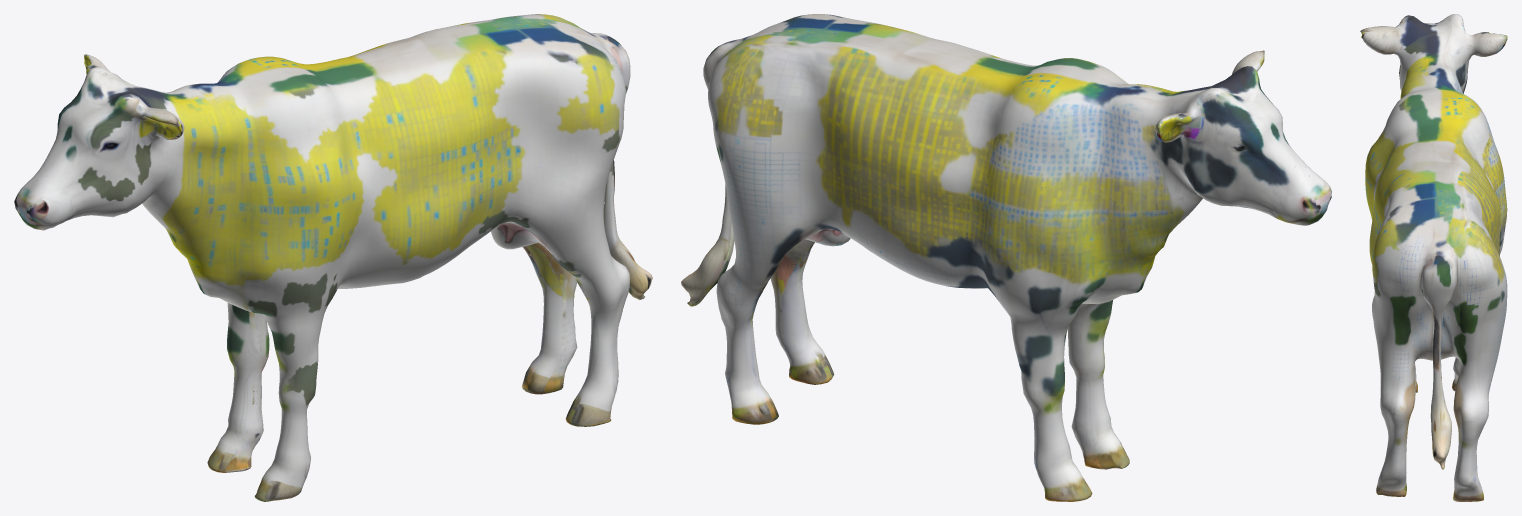
The model's file is cow.glb.
The picture shows the model from 3 angles, left to right: view 1: azimuth 30°, elevation 25°; view 2: azimuth 150°, elevation 25°; view 3: azimuth 270°, elevation 25°; orthographic projection. The views are drawn at different scales.
Bounding box in the file's own units: 1.98 × 1.3 × 0.5378.
Materials: 1 (1 with a texture image).
